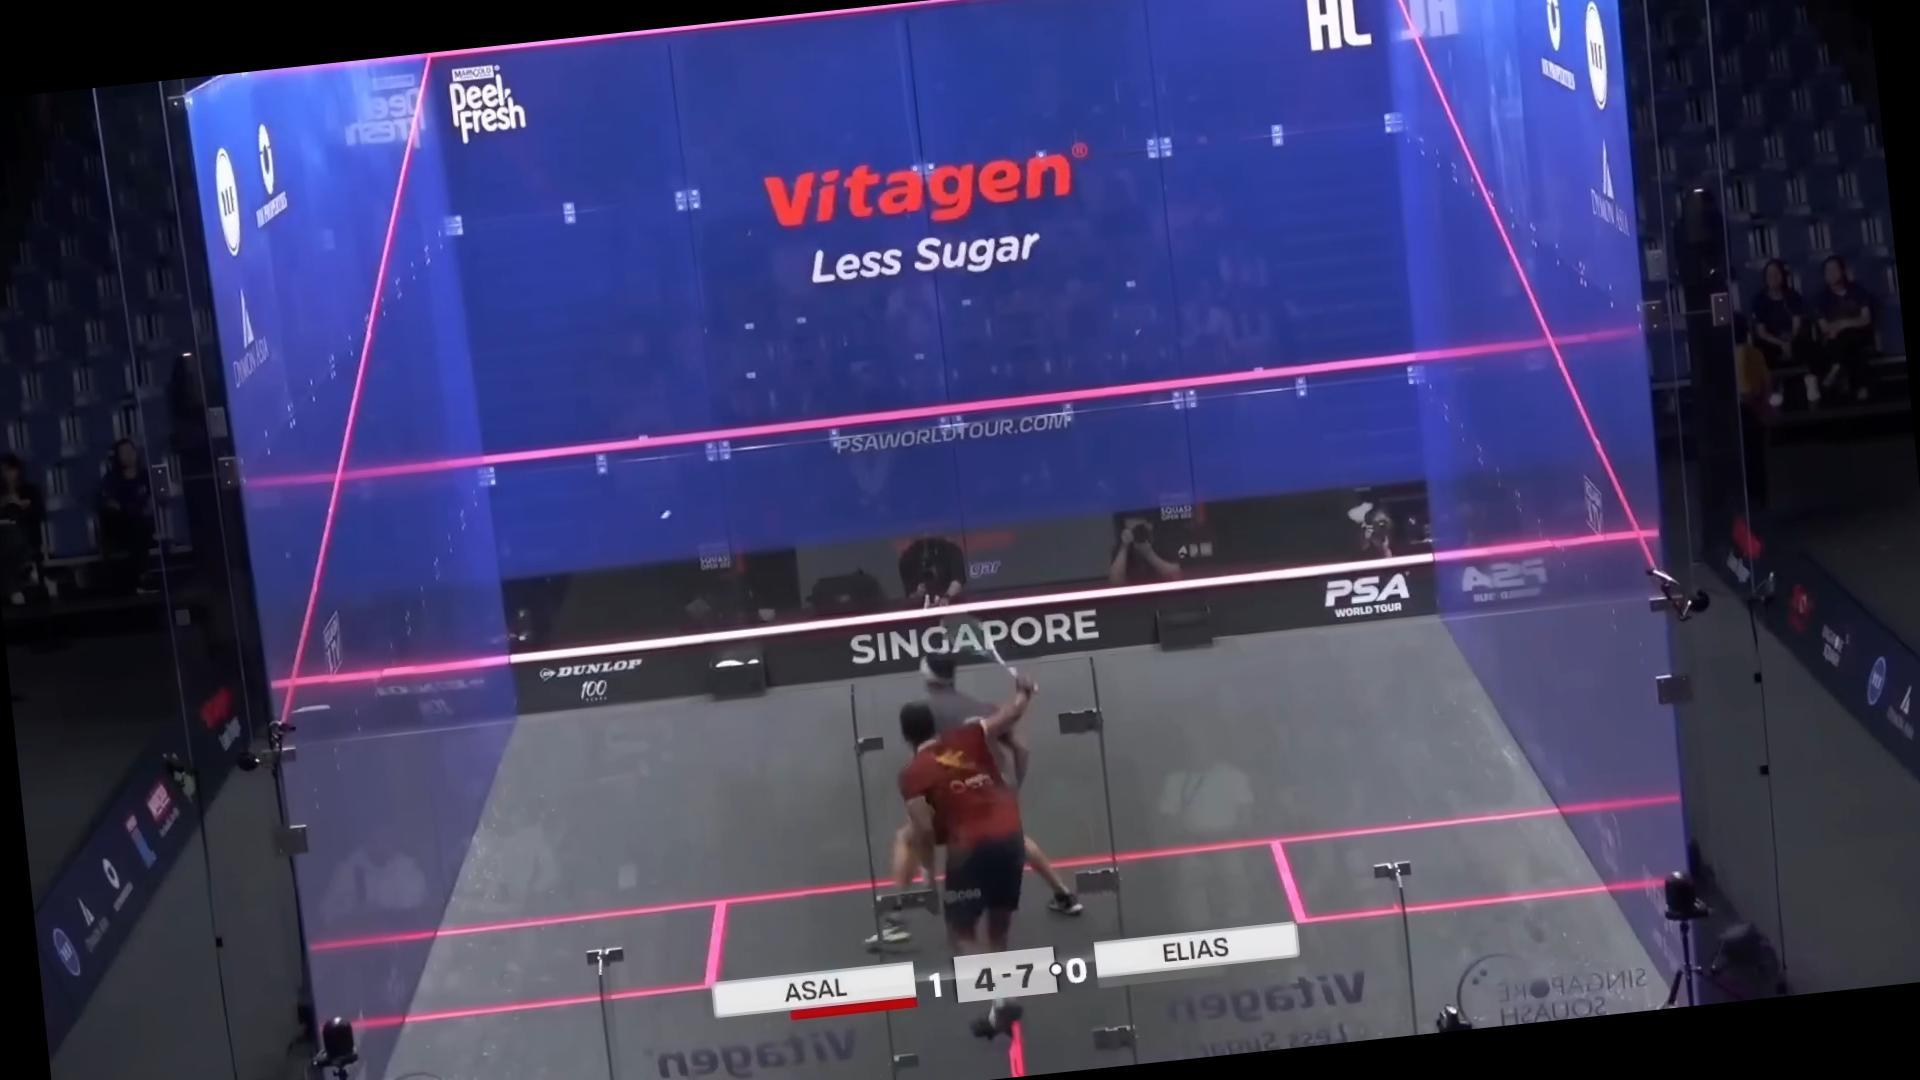Squash-Ball: (641, 493, 691, 537)
